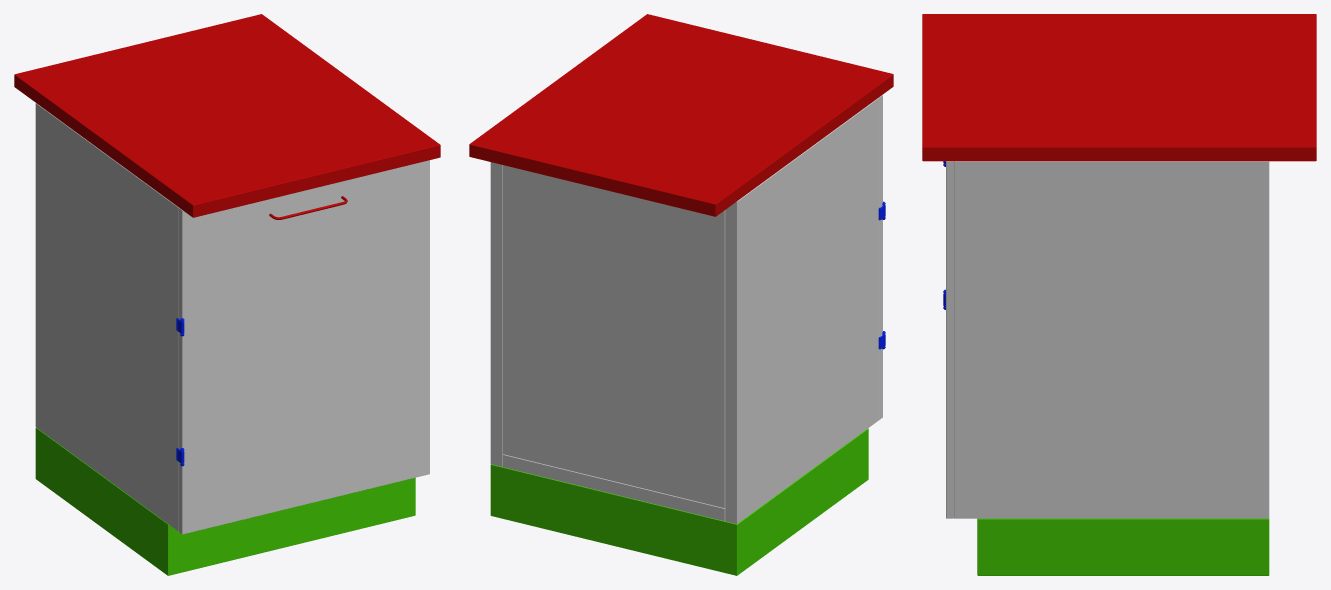
File: Bench01d.fbx
The picture shows the model from 3 angles, left to right: view 1: azimuth 30°, elevation 25°; view 2: azimuth 150°, elevation 25°; view 3: azimuth 270°, elevation 25°; orthographic projection. The views are drawn at different scales.
Visible parts, largest first — view 1: Bench01d, Drawer01; view 2: Bench01d, Drawer01; view 3: Bench01d, Drawer01.
Part boxes in pixels (x1,y1,x2,y2): Bench01d: [14, 14, 440, 575]; Drawer01: [179, 160, 429, 534]; Bench01d: [469, 14, 893, 575]; Drawer01: [879, 95, 882, 419]; Bench01d: [922, 14, 1316, 575]; Drawer01: [946, 161, 953, 518].
Size of the model in its own units: 50.35 by 62.5 by 75.
